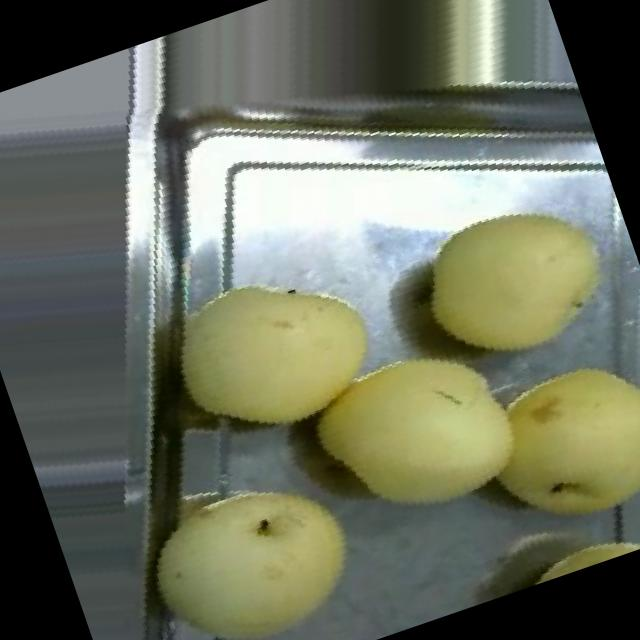Fruit: (270, 292, 568, 572), (128, 216, 420, 488), (99, 420, 406, 640), (374, 155, 640, 408), (437, 310, 640, 578)
